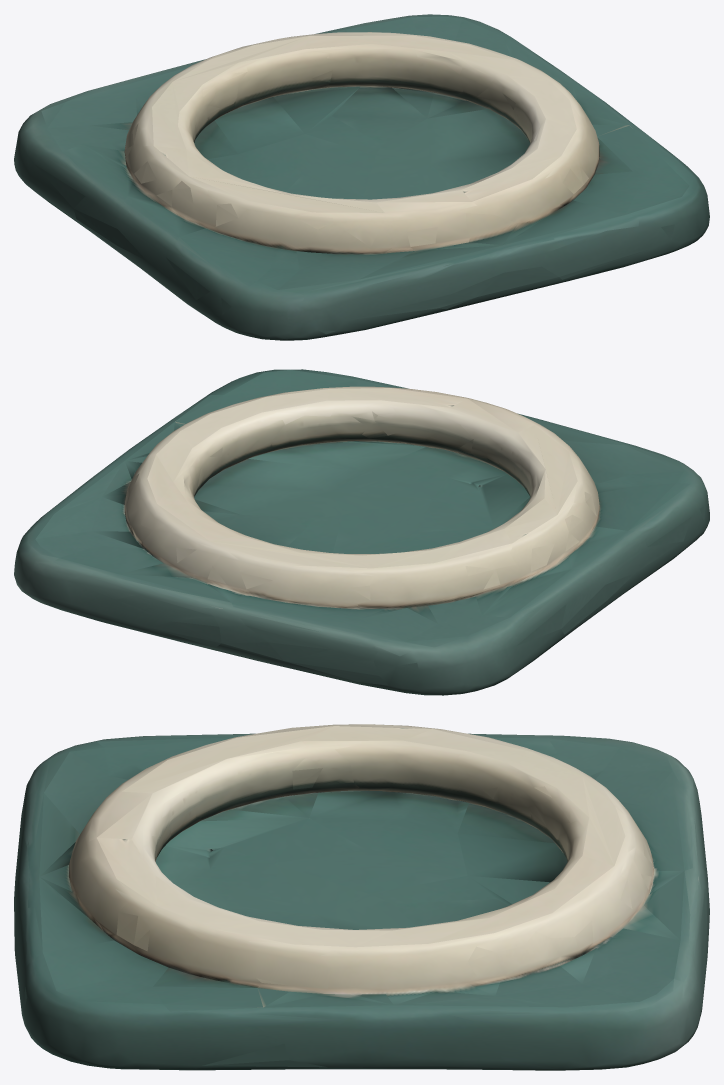
The model's file is switch_base.glb.
3 views of the same model, one above another, from view 1: azimuth 30°, elevation 25°; view 2: azimuth 150°, elevation 25°; view 3: azimuth 270°, elevation 25° (orthographic). The views are drawn at different scales.
Parts seen in each view (by area): view 1: tripo_node_569b409b; view 2: tripo_node_569b409b; view 3: tripo_node_569b409b.
Part boxes in pixels (left/top/right/bottom): tripo_node_569b409b: left=14, top=14, right=709, bottom=340; tripo_node_569b409b: left=14, top=369, right=709, bottom=695; tripo_node_569b409b: left=14, top=724, right=709, bottom=1070.
Bounding box in the file's own units: 0.48 × 0.0701 × 0.4801.
1 material, 1 textured.
